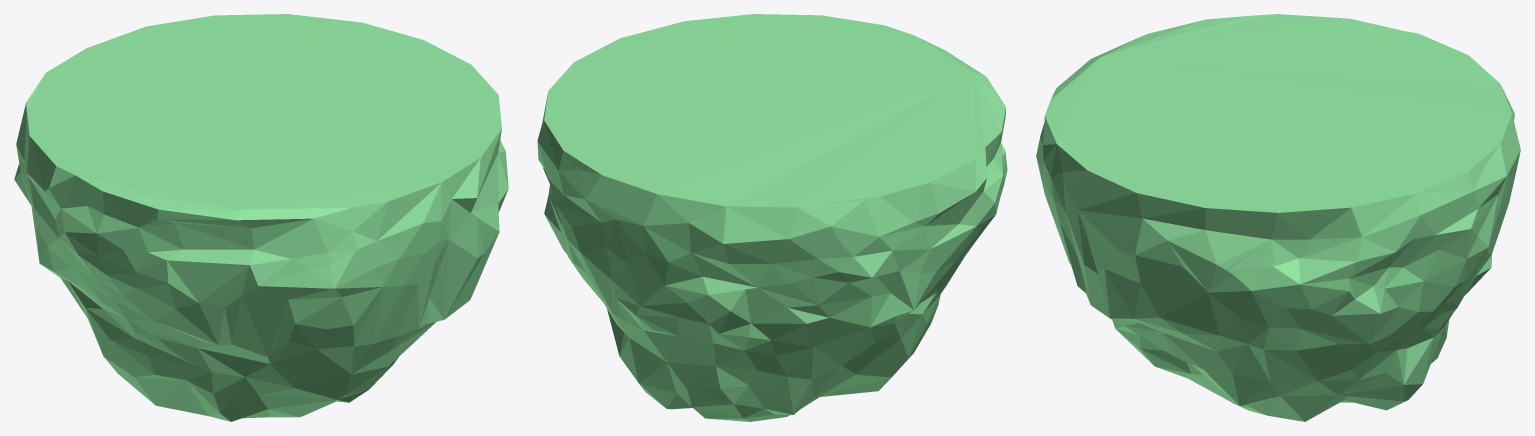
Rendered from island.fbx.
3 renders of one model, left to right at view 1: azimuth 30°, elevation 25°; view 2: azimuth 150°, elevation 25°; view 3: azimuth 270°, elevation 25°, orthographic. The views are drawn at different scales.
Visible parts, largest first — view 1: island; view 2: island; view 3: island.
Boxes of the visible parts, x1,y1,x2,y2 form: island: (14,14,508,421); island: (537,14,1007,421); island: (1036,14,1520,421).
Size of the model in its own units: 2023 by 1311 by 2030.
